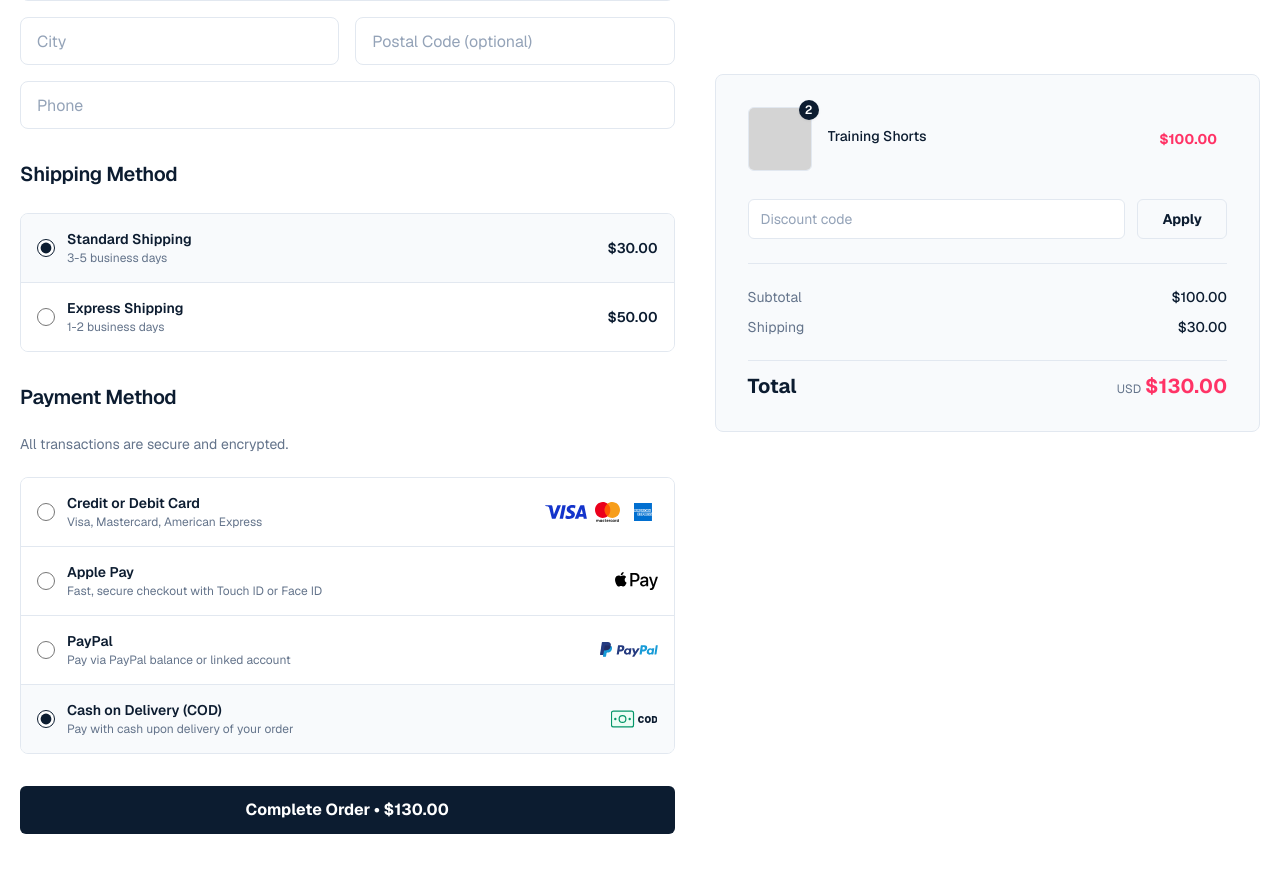
CheckoutClientView › validates fields and shows error when required inputs are missing
(page scrolled)
# Click submit with empty form fields
Click the button "Complete Order • $130.00". click: (347, 810)
box: [20,786,674,834]
(page scrolled)
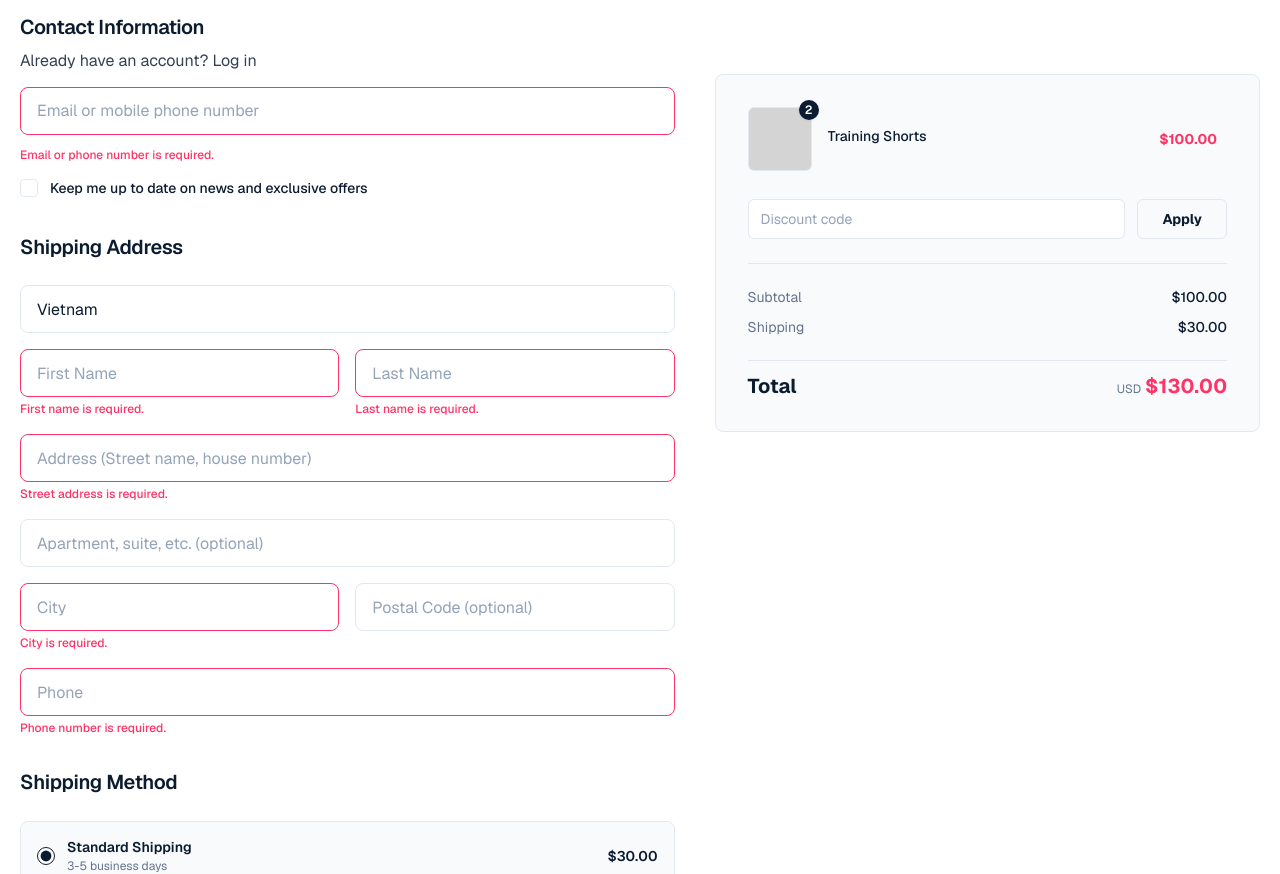
Check: the text "Email or phone number is required." is shown, box [20,146,214,162]
